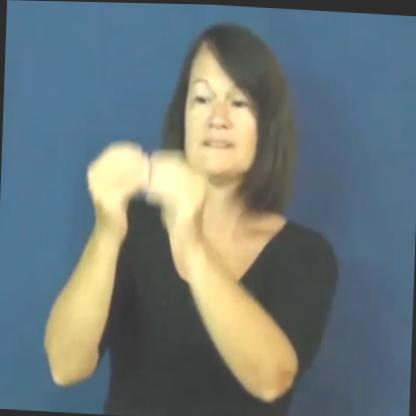Fix: (77, 104, 221, 251)
